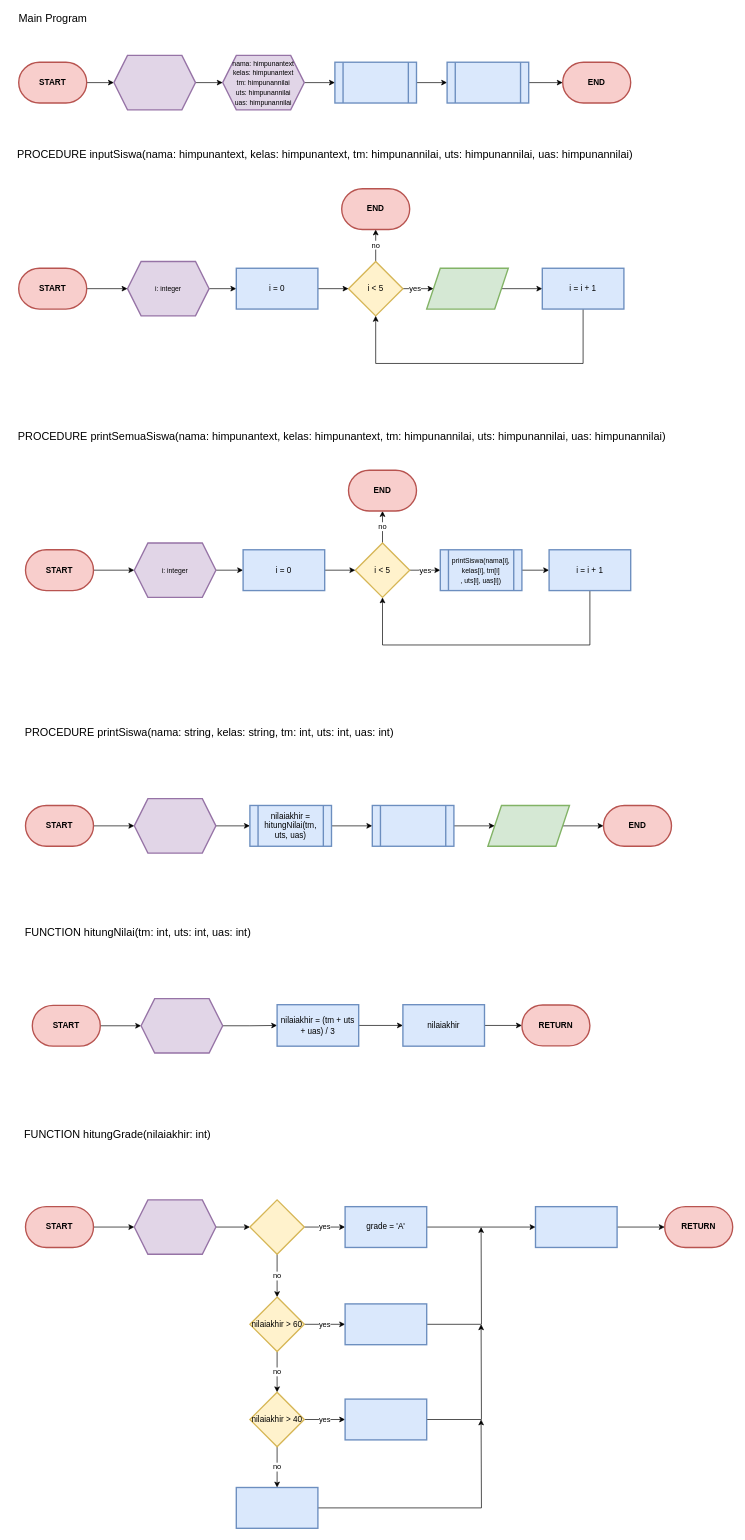
The diagram is 745 pixels wide and 1540 high, and some of its shapes have lost their labels. Each missing label, with the centre of its shape:
"grade" goes at pixel 575 1227.
"grade = 'B'" goes at pixel 385 1324.
"grade = 'C'" goes at pixel 385 1419.
"grade = 'D'" goes at pixel 276 1507.
"grade = hitungGrade(nilaiakhir)" goes at pixel 412 825.
"grade: char" goes at pixel 174 1227.
"grade: char nilaiakhir: int" goes at pixel 174 825.
"INPUT nama, kelas, tm, uts, uas, nilaiakhir, grade" goes at pixel 528 825.
"INPUT nama[i], kelas[i], tm[i], uts[i], uas[i]" goes at pixel 467 288.
"inputSiswa(nama, kelas, tm, uts, uas)" goes at pixel 375 82.
"nilaiakhir > 80" goes at pixel 277 1227.
"nilaiakhir: int" goes at pixel 181 1025.
"printSemuaSiswa(nama, kelas, tm, uts, uas)" goes at pixel 487 82.
"type int[5] himpunannilai type string[5] himpunantext" goes at pixel 154 82.
